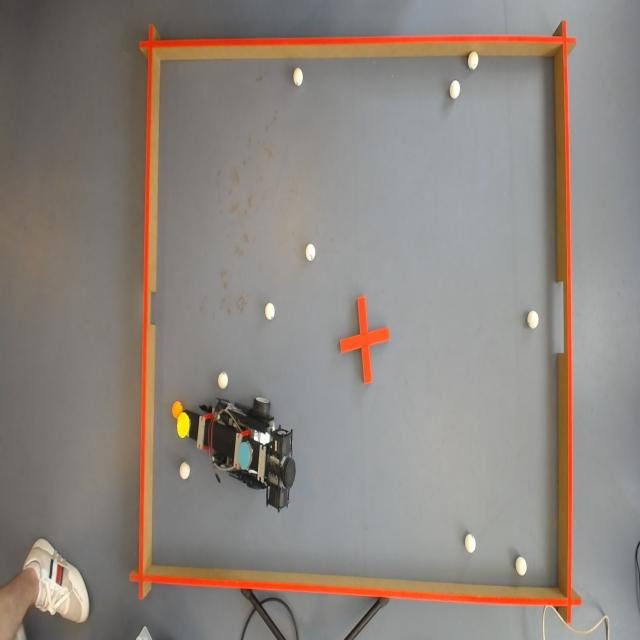orange: (172, 401, 182, 418)
robot: (185, 401, 292, 454)
robot-front: (176, 411, 189, 438)
robot-rear: (236, 442, 251, 470)
white: (467, 50, 479, 71), (515, 559, 528, 578), (466, 534, 478, 554), (449, 81, 462, 99), (527, 310, 539, 328), (179, 462, 190, 481), (294, 66, 305, 84), (304, 243, 315, 260), (265, 304, 276, 319), (220, 374, 230, 388)
